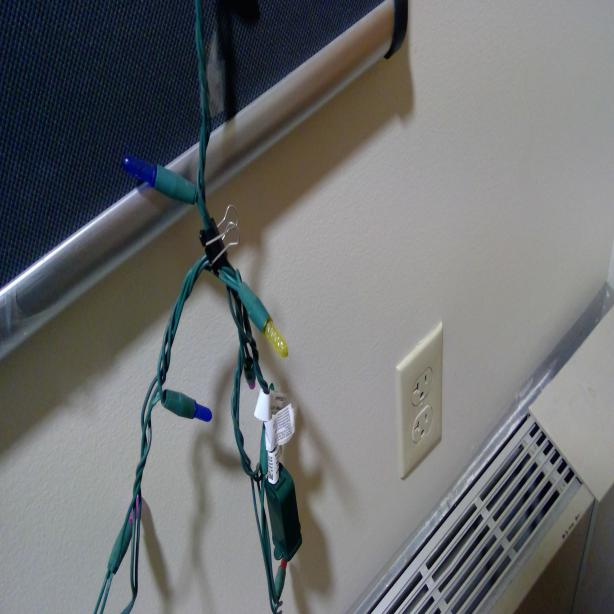typeb: (413, 373, 435, 405), (414, 408, 433, 440)
